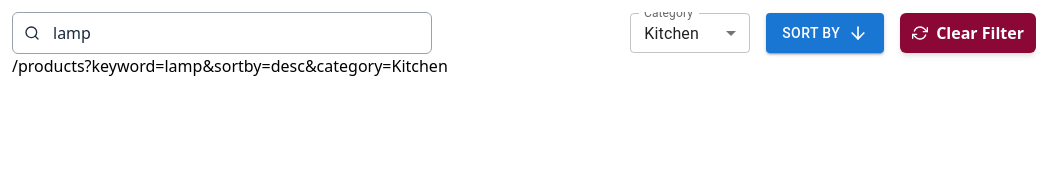
Test: Filter › Clear Filter empties the URL and the search box
Click the button "Clear Filter" at point(968, 33), box [900,13,1036,53]
Wait 1000 ms
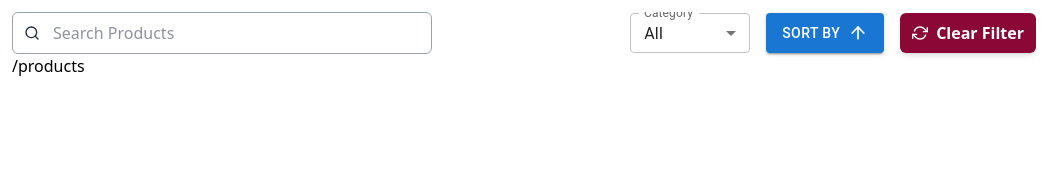
Check: the text with test id "url" reads "/products", box [12,55,85,77]
Check: the field with placeholder "Search Products" is empty, box [12,12,432,54]
